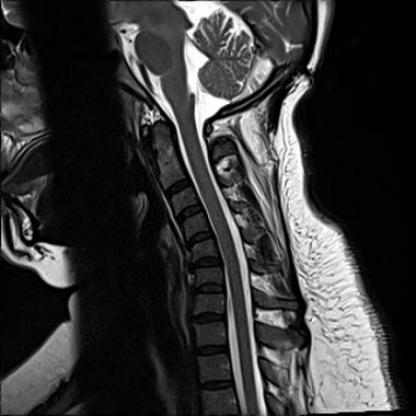Disc Bulgerotation: (185, 227, 216, 251), (189, 252, 222, 270)
